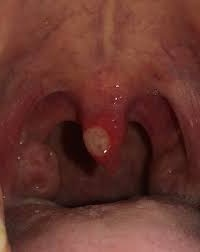Ulcer: (81, 120, 111, 161)
